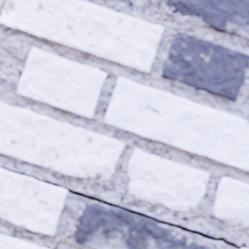brick: (105, 78, 248, 172), (0, 0, 163, 73), (0, 103, 124, 181), (74, 203, 218, 248), (18, 49, 106, 118), (161, 32, 248, 101), (128, 150, 208, 211), (0, 168, 68, 235), (158, 0, 248, 40), (213, 178, 248, 226), (0, 234, 46, 248)
crack: (0, 166, 248, 248)
